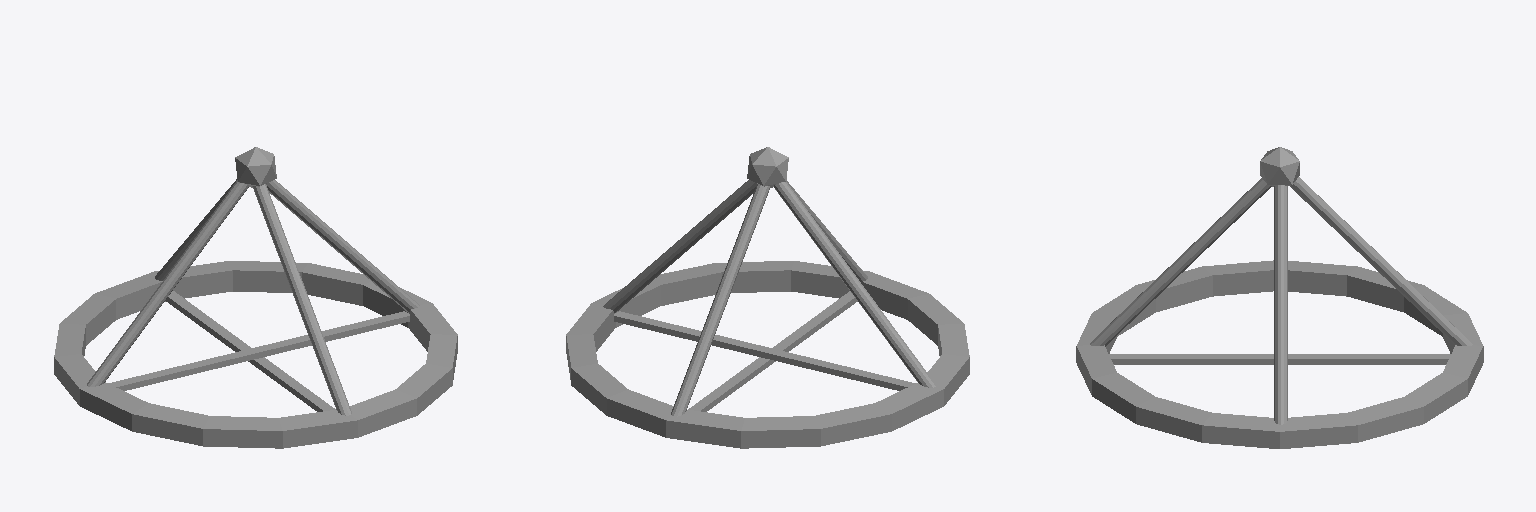
File: lustre.obj
The picture shows the model from 3 angles: view 1: azimuth 30°, elevation 25°; view 2: azimuth 150°, elevation 25°; view 3: azimuth 270°, elevation 25°; orthographic projection.
Visible parts, largest first — view 1: Cube_Cube.001, Cylinder.004, Icosphere; view 2: Cube_Cube.001, Cylinder.004, Icosphere; view 3: Cube_Cube.001, Cylinder.004, Icosphere.
Part boxes in pixels (x1,y1,x2,y2): Cube_Cube.001: (54,261,457,448); Cylinder.004: (87,179,419,415); Icosphere: (235,147,276,187); Cube_Cube.001: (566,261,969,448); Cylinder.004: (603,180,935,416); Icosphere: (747,147,788,187); Cube_Cube.001: (1076,260,1483,448); Cylinder.004: (1090,177,1472,424); Icosphere: (1260,147,1299,186).
Bounding box in the file's own units: 2.08 × 1.23 × 2.08.